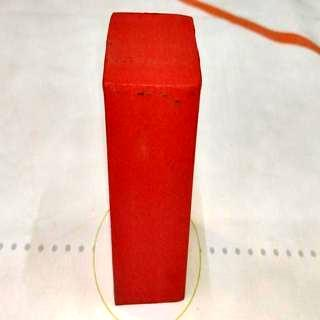redbox: (102, 10, 203, 306)
